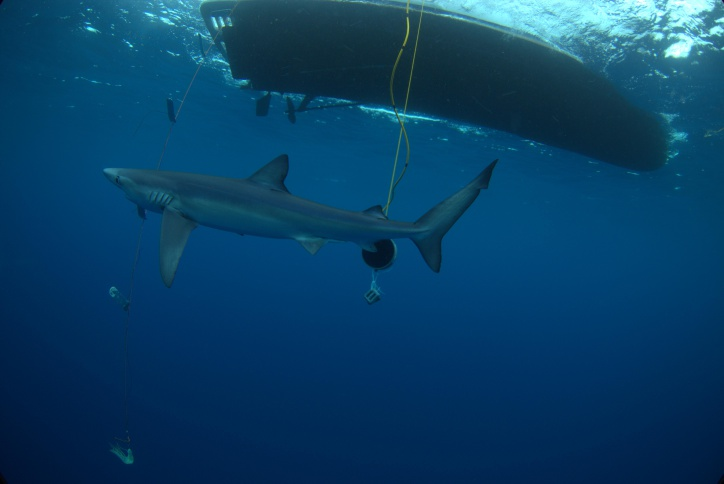Azul: (56, 245, 417, 410)
